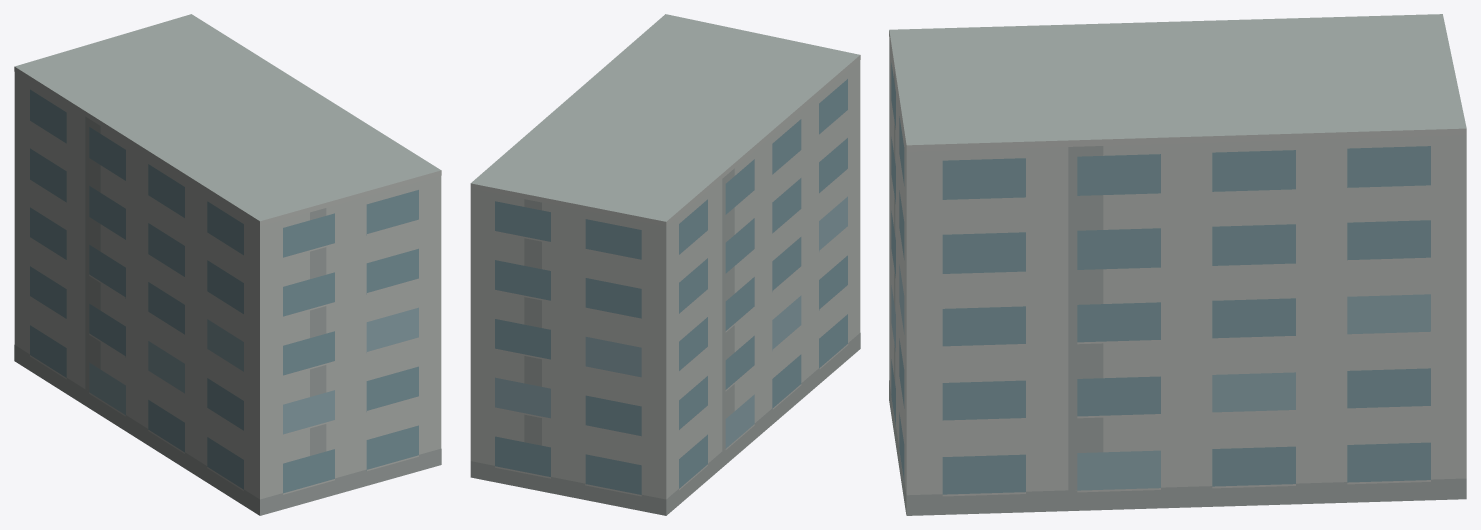
Rendered from survey-upis-32931145.glb.
3 views of the same model, side by side, from view 1: azimuth 30°, elevation 25°; view 2: azimuth 150°, elevation 25°; view 3: azimuth 270°, elevation 25° (orthographic). The views are drawn at different scales.
Parts seen in each view (by area): view 1: survey-upis-32931145.tmp; view 2: survey-upis-32931145.tmp; view 3: survey-upis-32931145.tmp.
Boxes of the visible parts, x1,y1,x2,y2 form: survey-upis-32931145.tmp: (14,14,441,515); survey-upis-32931145.tmp: (470,14,860,515); survey-upis-32931145.tmp: (889,14,1466,515).
Size of the model in its own units: 10.57 by 13.9 by 19.64.
